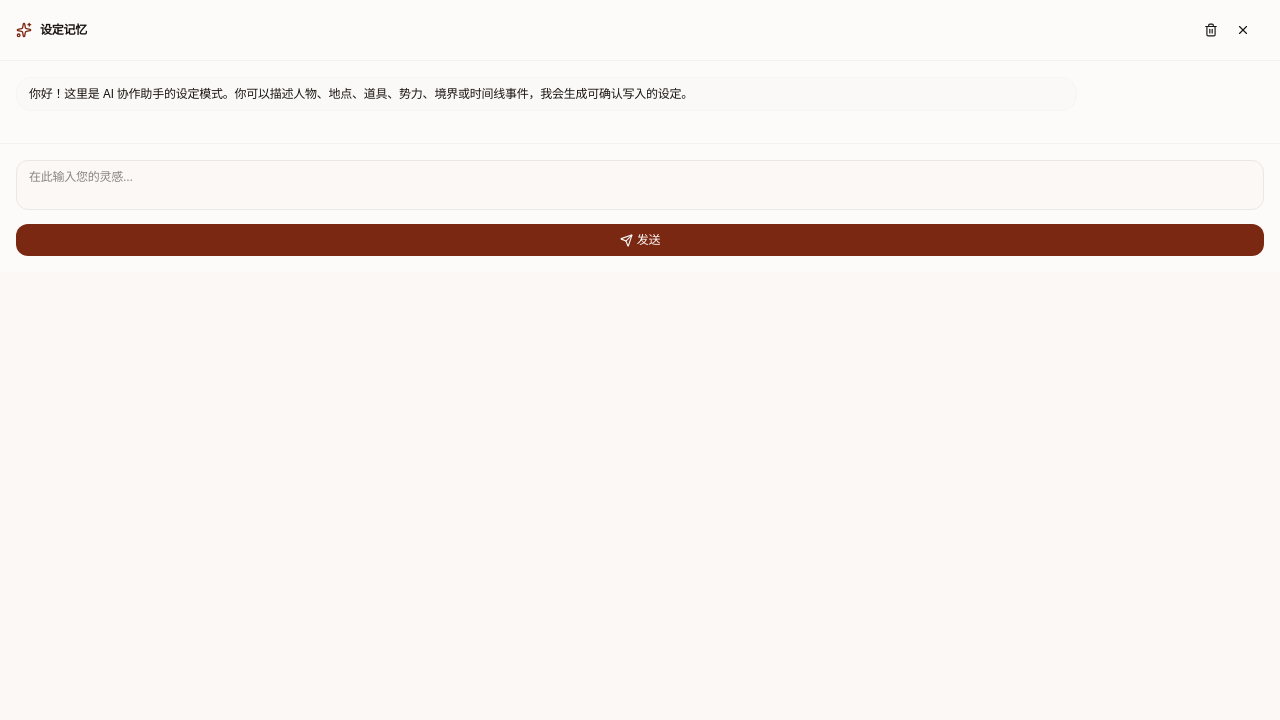
Scenario: WorldBibleAssistant continuation batch sync › 配置错误不重复消耗模型请求，并提供打开设置入口
The image size is (1280, 720).
In the text box named "输入设定灵感": (640, 185) [16,160,1264,210], type "处理资料包中的设定"
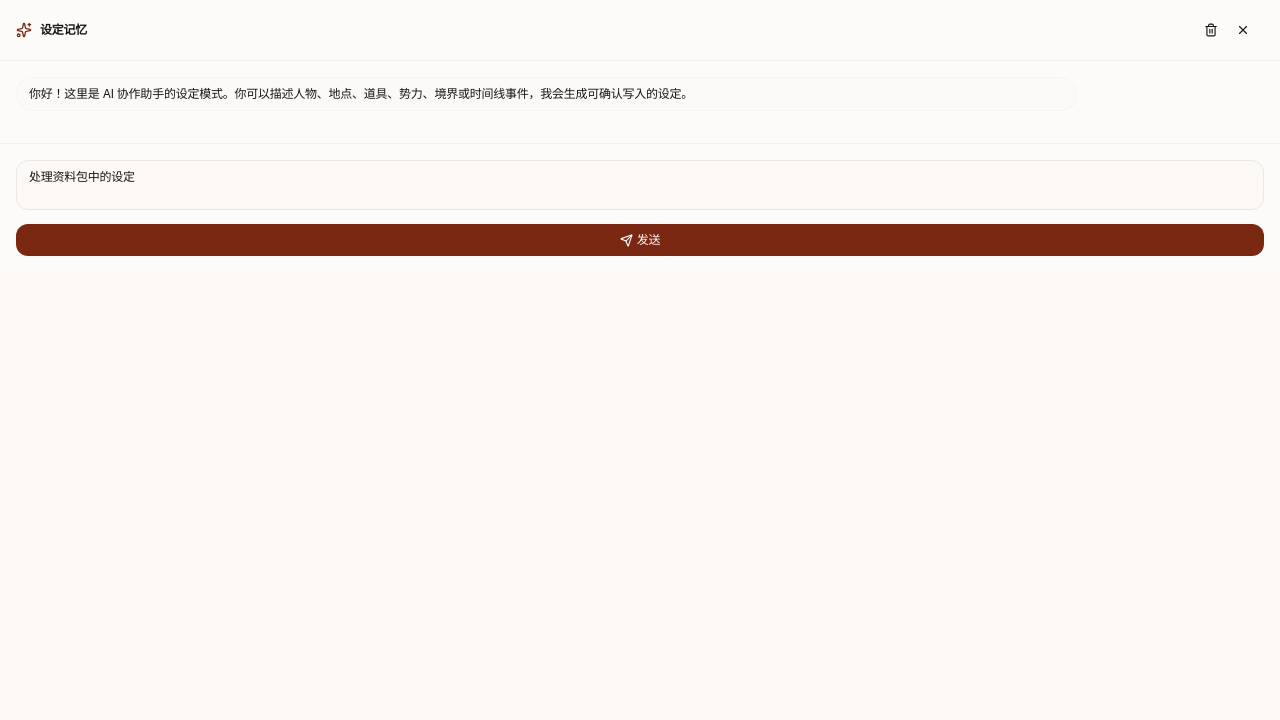
Click the button with aria-label "发送设定灵感": (640, 240) [16,224,1264,256]
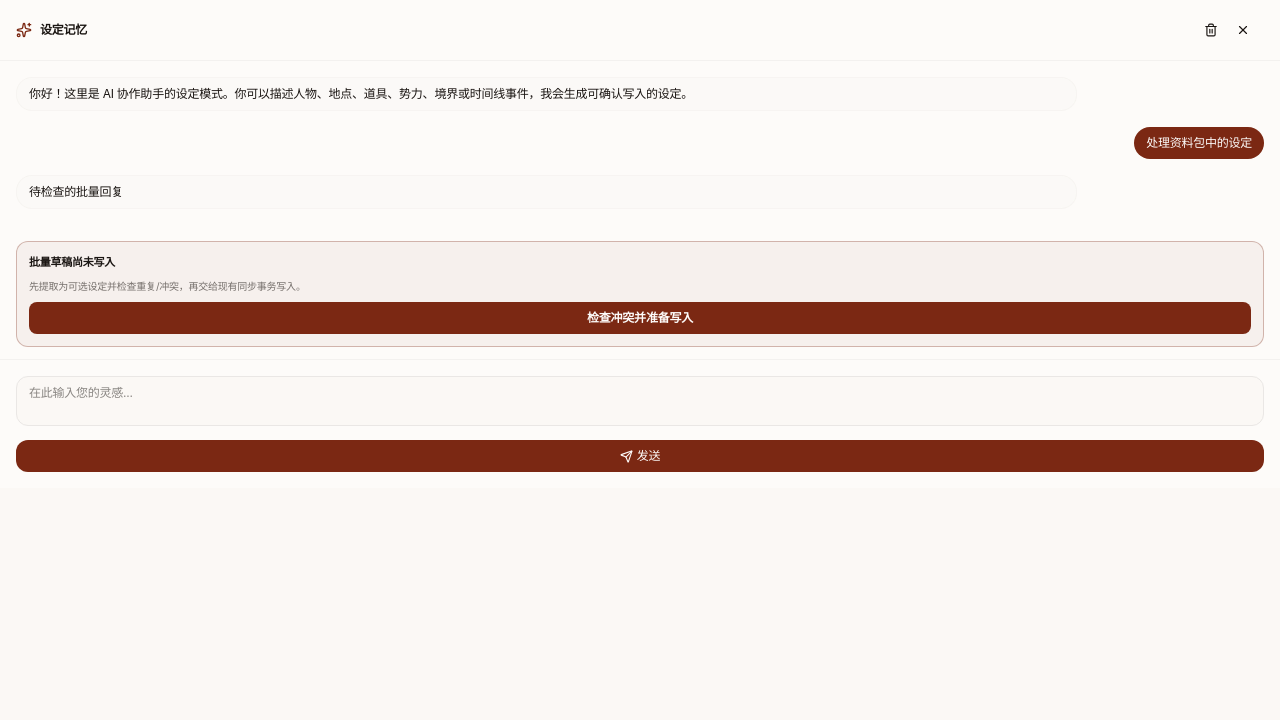
Expected: the text "待检查的批量回复" is shown, [29,184,123,199]
Click the button "检查冲突并准备写入": (640, 318) [29,302,1251,334]
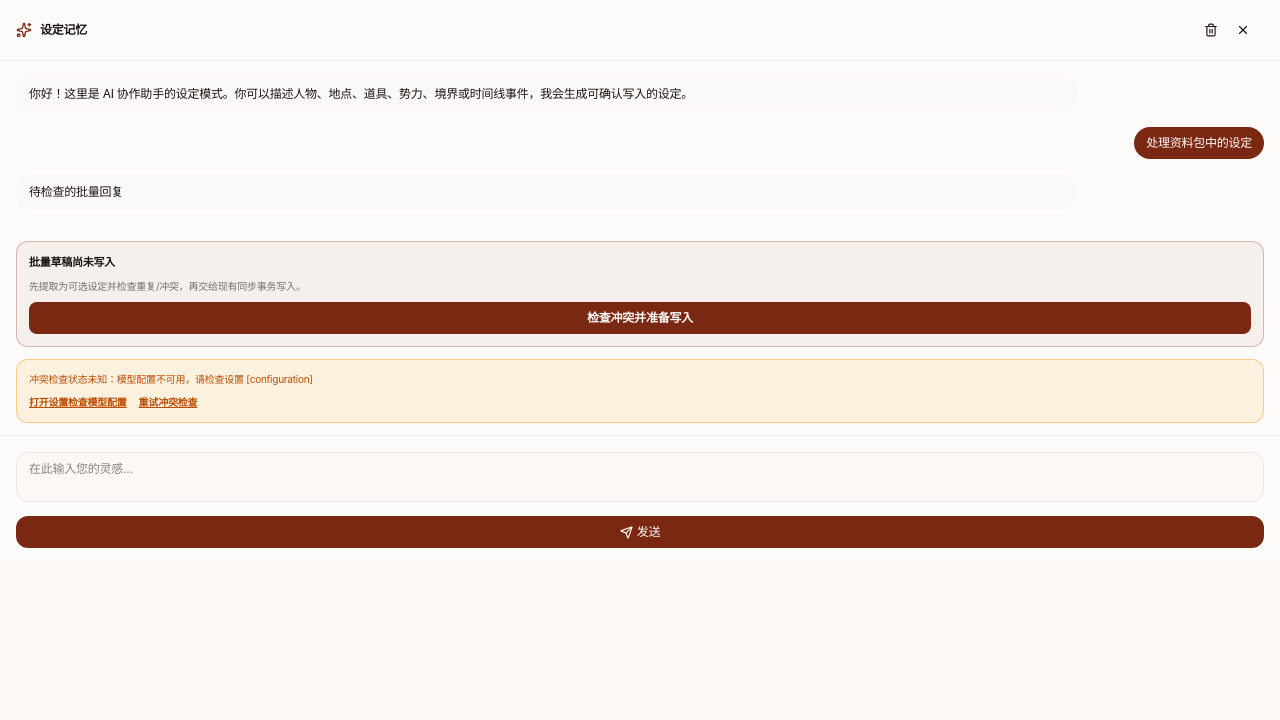
Expected: the text "冲突检查状态未知：模型配置不可用，请检查设置 [configuration]" is shown, [29,372,313,384]
Expected: the button "打开设置检查模型配置" is shown, [29,394,127,410]
